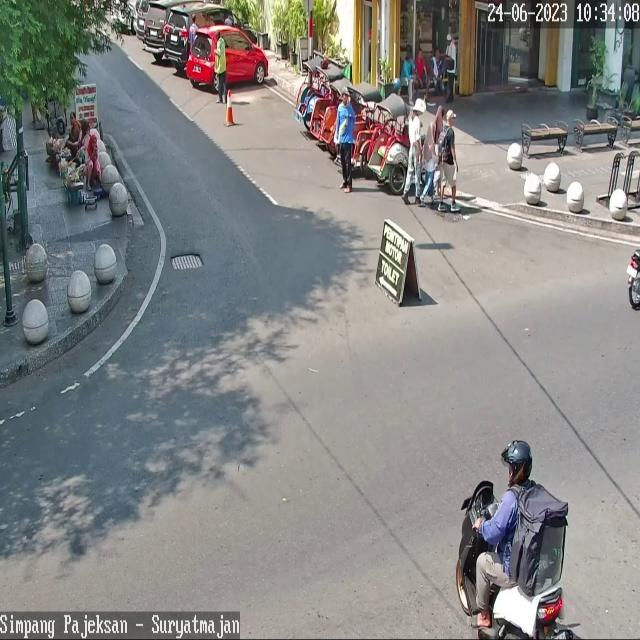bus: (456, 480, 575, 640)
motorcycle: (163, 3, 257, 63), (186, 25, 268, 92), (144, 0, 170, 52)
